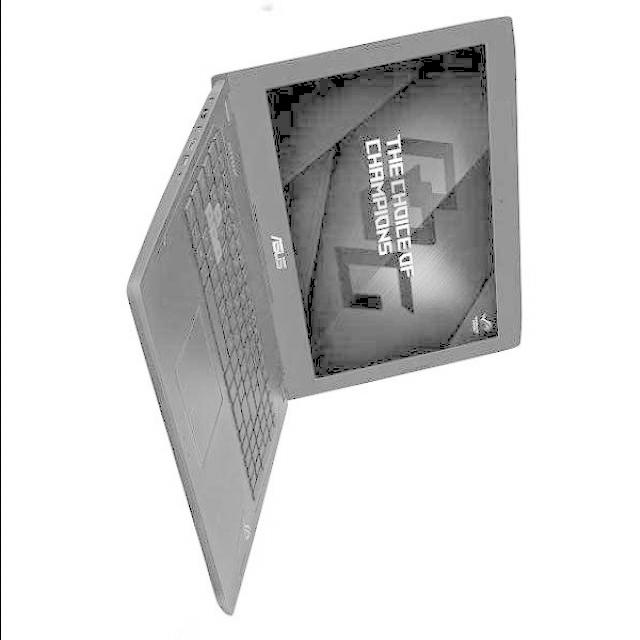-keyboard-: (120, 15, 539, 636)
